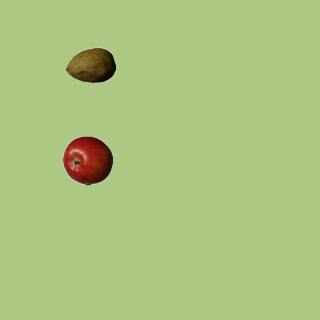Apple Braeburn: (62, 135, 112, 185)
Papaya: (65, 40, 115, 90)
